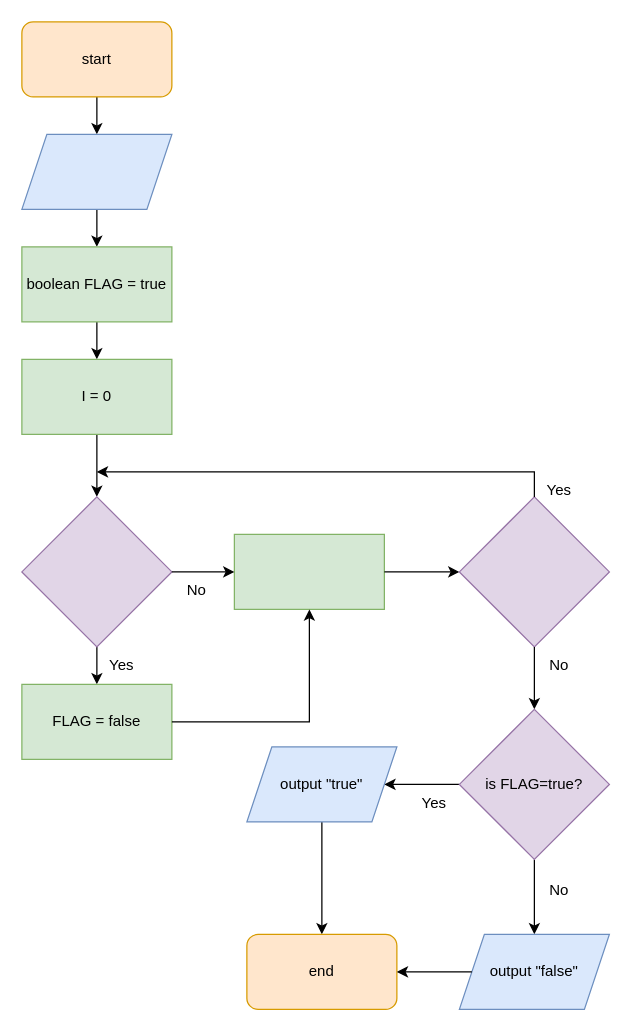
The diagram is 631 pixels wide and 1031 high, and some of its shapes have lost their labels. Each missing label, with the centre of its shape:
"I=I+1" goes at (308,571).
"input array A[N]" goes at (96,171).
"is A[I] <A [I + 1 ]?" goes at (96,571).
"is I<N-1?" goes at (533,571).
